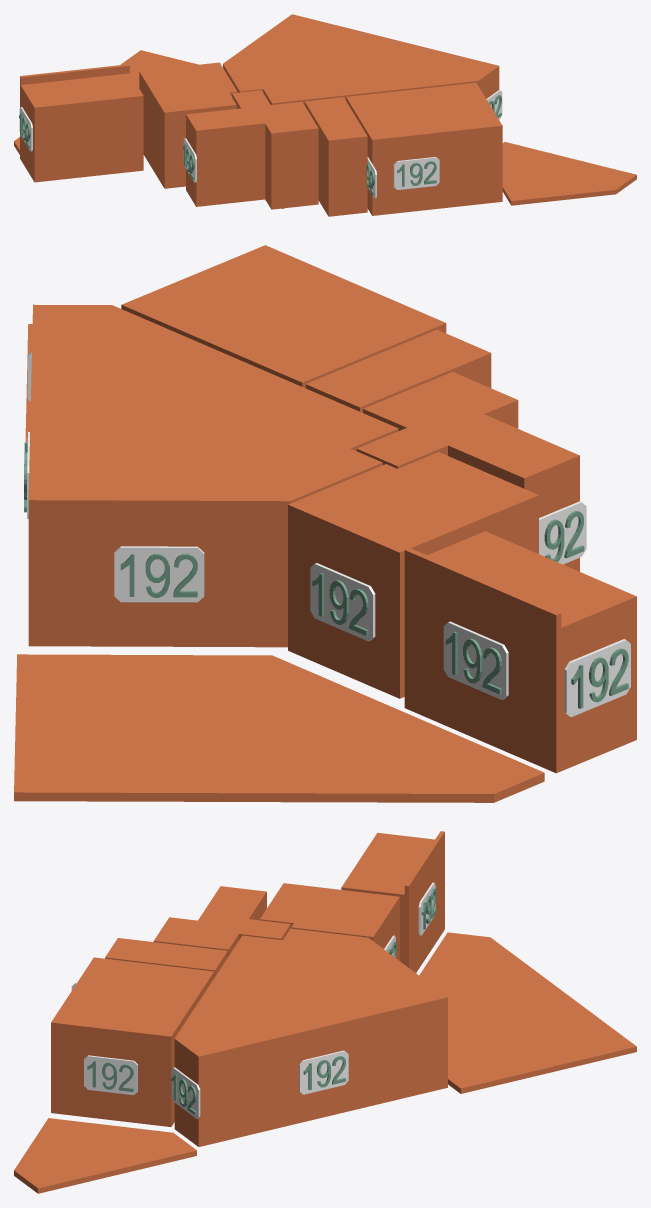
3 renders of one model, top to bottom at view 1: azimuth 30°, elevation 25°; view 2: azimuth 150°, elevation 25°; view 3: azimuth 270°, elevation 25°, orthographic. The views are drawn at different scales.
Visible parts, largest first — view 1: g_1, g_0, g_3, g_5, g_4, g_2, g_6, g_19, g_7; view 2: g_0, g_7, g_5, g_4, g_1, g_3, g_2, g_39, g_27, g_35, g_47, g_15; view 3: g_0, g_7, g_1, g_6, g_5, g_4, g_3, g_2, g_43, g_23, g_11.
Part boxes in pixels (x1,y1,x2,y2): g_1: [346, 83, 502, 215]; g_0: [223, 14, 499, 104]; g_3: [186, 90, 318, 209]; g_5: [20, 64, 143, 182]; g_4: [139, 62, 237, 188]; g_2: [304, 97, 367, 216]; g_6: [502, 142, 636, 205]; g_19: [393, 157, 439, 189]; g_7: [14, 50, 198, 154]; g_0: [28, 304, 398, 647]; g_7: [14, 654, 544, 802]; g_5: [404, 531, 636, 773]; g_4: [288, 452, 538, 698]; g_1: [121, 245, 446, 388]; g_3: [356, 372, 579, 571]; g_2: [305, 329, 491, 412]; g_39: [114, 546, 204, 602]; g_27: [310, 563, 375, 641]; g_35: [443, 621, 508, 699]; g_47: [564, 639, 630, 716]; g_15: [539, 501, 586, 564]; g_0: [174, 928, 447, 1146]; g_7: [419, 932, 636, 1093]; g_1: [51, 957, 214, 1126]; g_6: [14, 1118, 196, 1193]; g_5: [341, 831, 444, 972]; g_4: [260, 883, 399, 960]; g_3: [153, 886, 290, 957]; g_2: [105, 938, 227, 977]; g_43: [84, 1055, 137, 1095]; g_23: [299, 1050, 348, 1094]; g_11: [171, 1067, 200, 1118].
Bounding box in the file's own units: 15.8 × 2.85 × 15.57.
